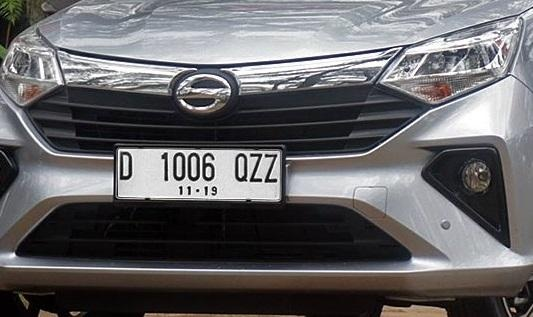plate: (107, 141, 292, 211)
